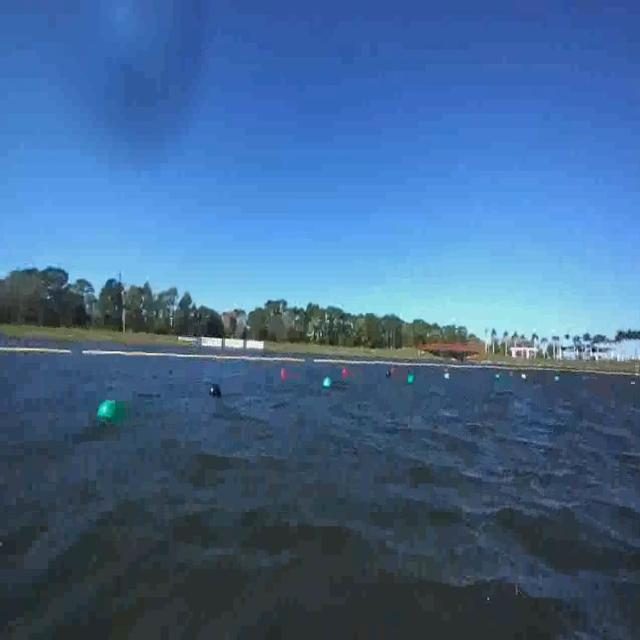black-buoy: (203, 370, 232, 423)
green-buoy: (97, 402, 121, 427), (322, 377, 332, 390), (409, 374, 415, 386)
red-buoy: (276, 366, 295, 386), (338, 364, 353, 380)
